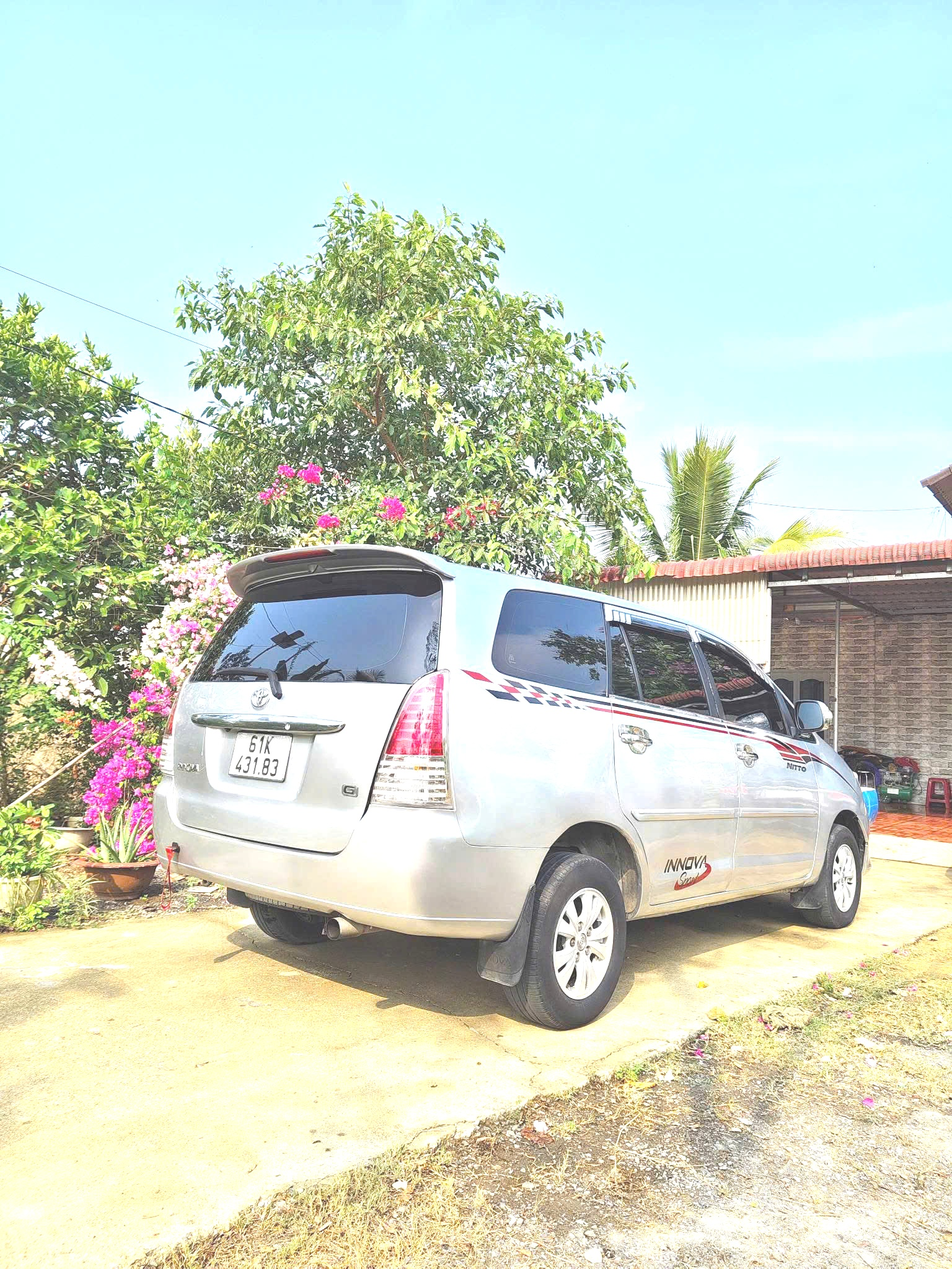Bien-so: (224, 735, 290, 783)
